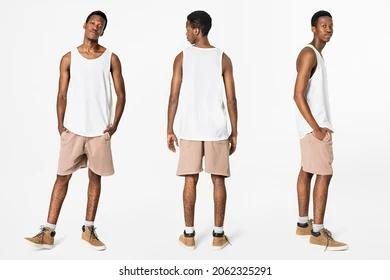Shorts: (55, 129, 117, 178), (176, 137, 232, 178), (299, 128, 335, 177)
vest: (174, 44, 230, 141), (62, 44, 115, 138), (295, 41, 333, 139)
